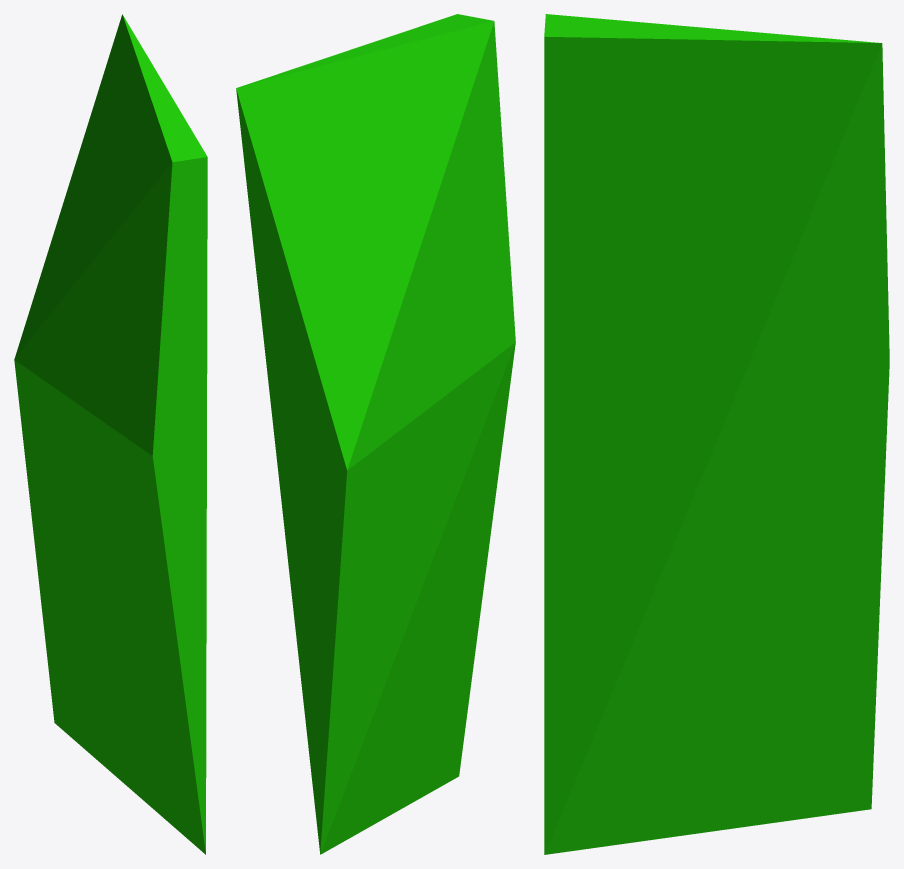
File: torso_convex_piece_049.obj
3 views of the same model, side by side, from view 1: azimuth 30°, elevation 25°; view 2: azimuth 150°, elevation 25°; view 3: azimuth 270°, elevation 25° (orthographic). The views are drawn at different scales.
Size of the model in its own units: 0.0163 by 0.0994 by 0.0368.
